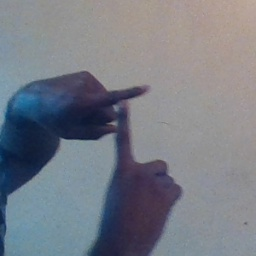T: (72, 68, 162, 172)
